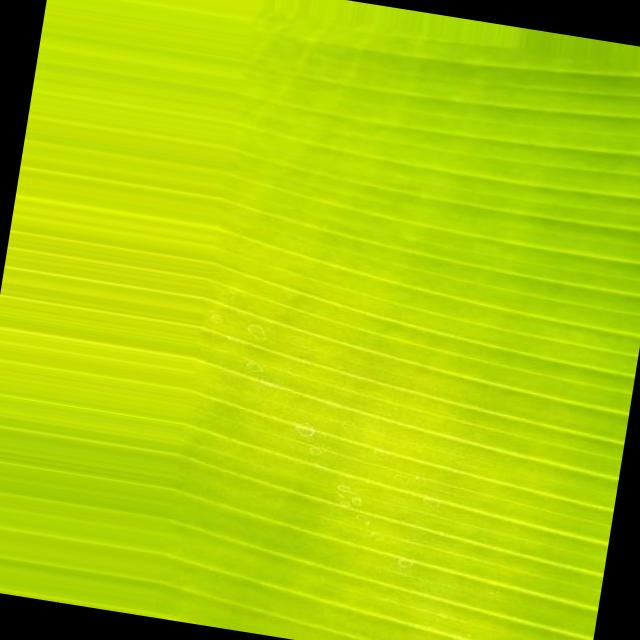Banana_Healthy: (12, 5, 640, 640)
